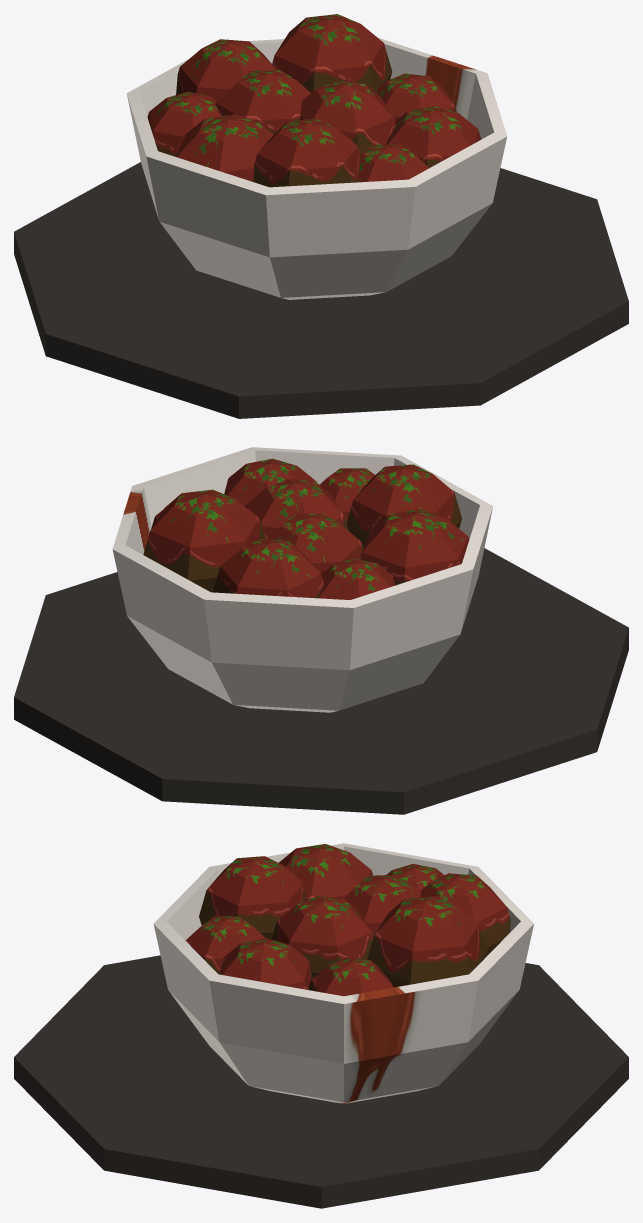
Rendered from Meatball Tower Bowl.fbx.
The picture shows the model from 3 angles, top to bottom: view 1: azimuth 30°, elevation 25°; view 2: azimuth 150°, elevation 25°; view 3: azimuth 270°, elevation 25°; orthographic projection. The views are drawn at different scales.
Parts seen in each view (by area): view 1: polySurface604; view 2: polySurface604; view 3: polySurface604.
Part boxes in pixels (left/top/right/bottom): polySurface604: left=14, top=14, right=628, bottom=418; polySurface604: left=14, top=447, right=628, bottom=814; polySurface604: left=14, top=843, right=628, bottom=1208.
Bounding box in the file's own units: 553 × 205 × 553.
